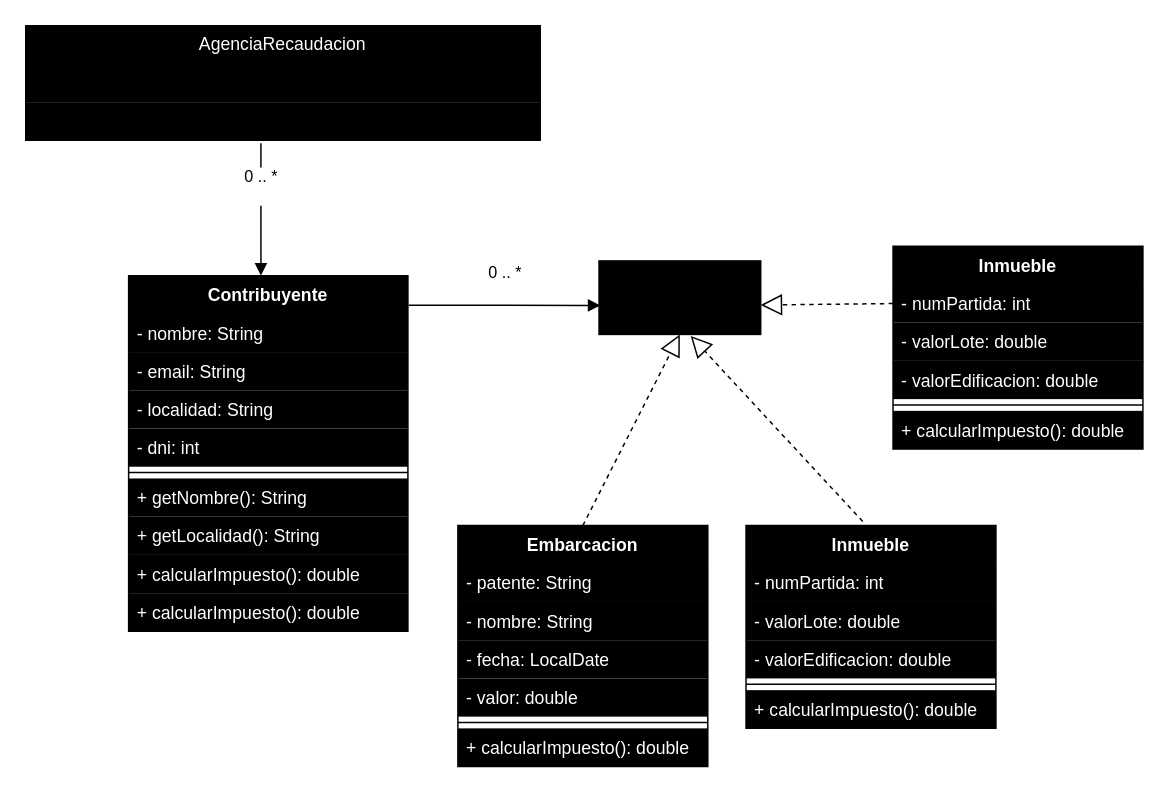
Image size: 1169x797. Some labels were removed from this diagram. The shapes that lost their labels are listed below. From the top down, each one's centre as x and y in pixels, then its label:
At [282,82]: "+ agregarContribuyente(contribuyente: Contribuyente)".
At [282,120]: "+ contribuyenteQueMasPaga(localidad: String, N: int)".
At [679,296]: "«interface» Bien".
